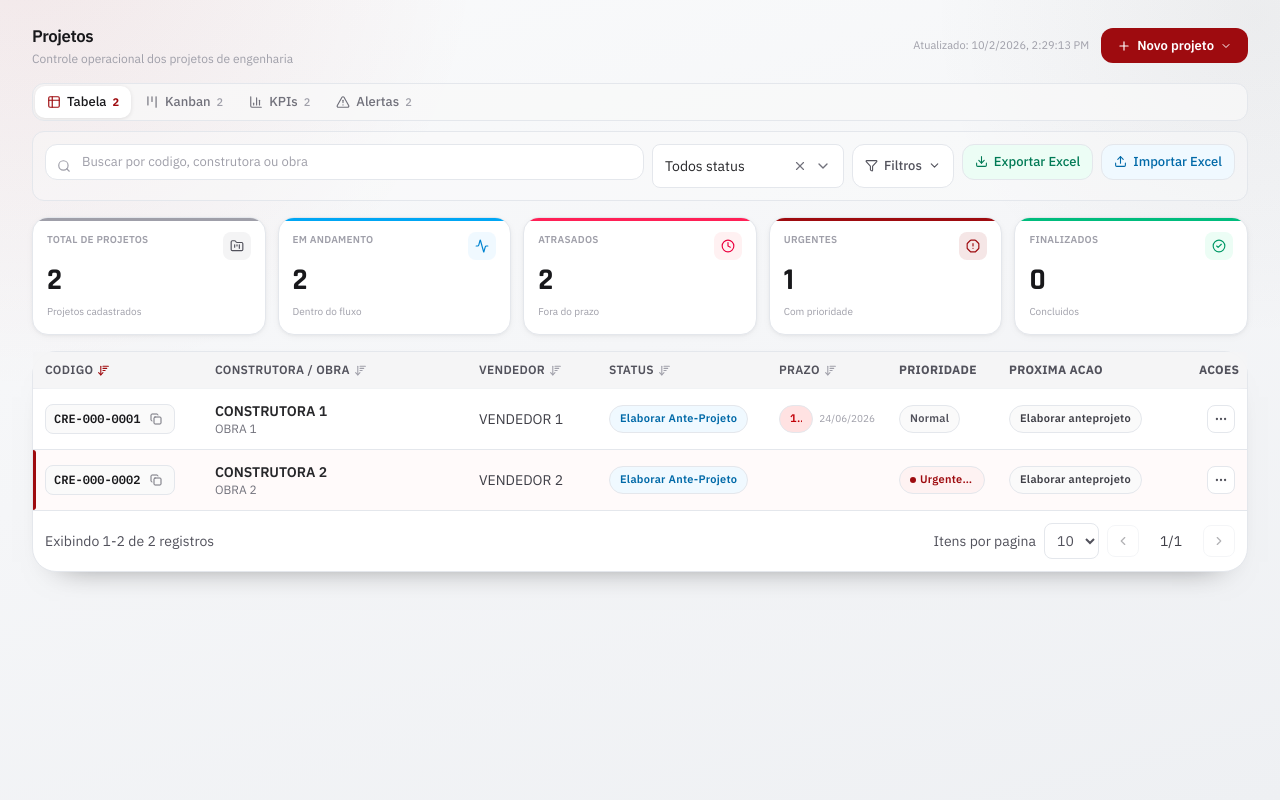
Scenario: perfis com projects.markUrgent — ação disponível como antes › ADMIN: remover abre a confirmação
Click the button named "Abrir acoes do projeto" in the row of "CRE-000-0002": x=1221, y=480 [1207,466,1235,494]
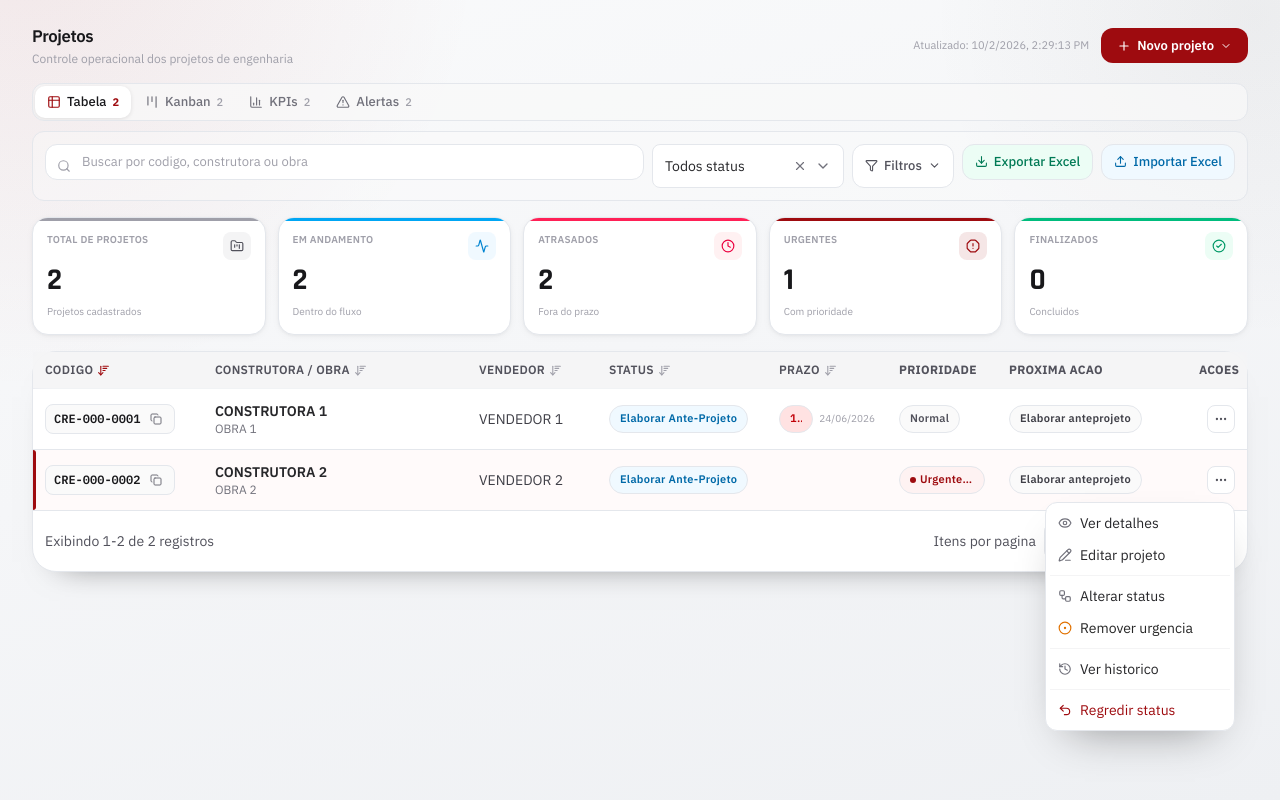
Click the menu item "Remover urgencia": x=1126, y=628 [1058,619,1193,637]
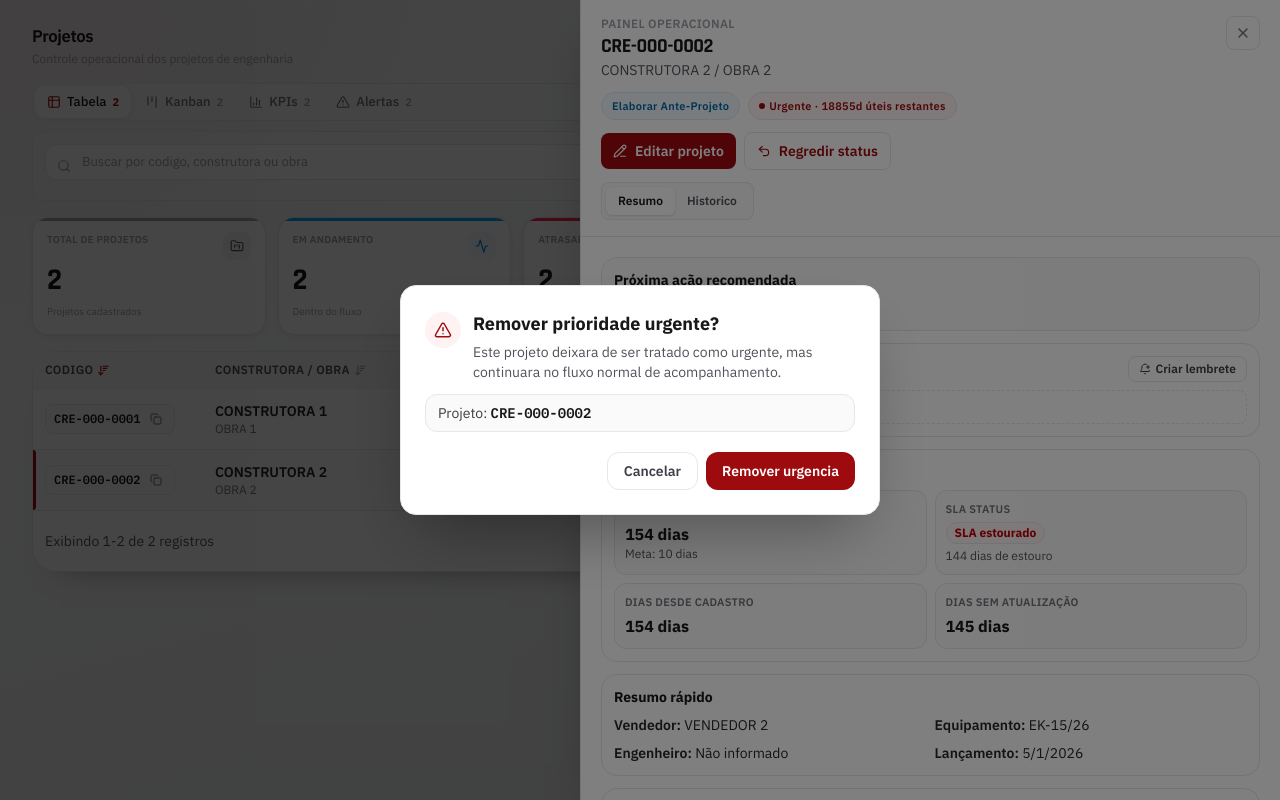
Expected: the dialog "Remover prioridade urgente?" is shown, [400,285,880,515]
